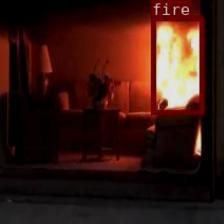fire: (150, 15, 204, 113)
